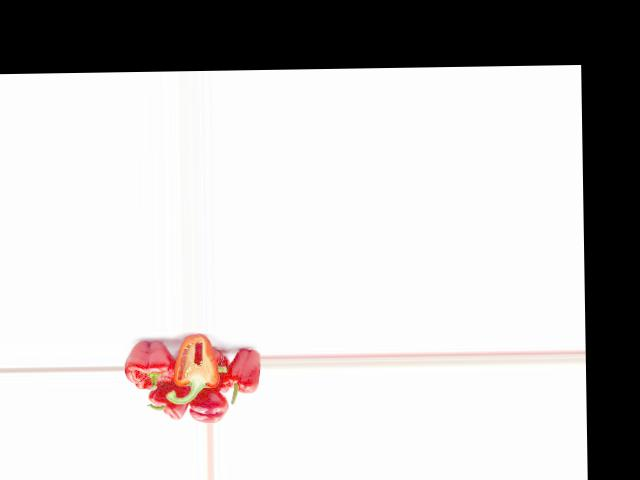bell_pepper: (146, 385, 190, 420)
